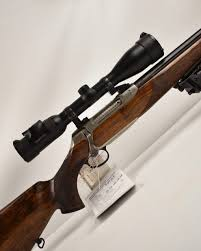gun: (1, 24, 199, 250)
